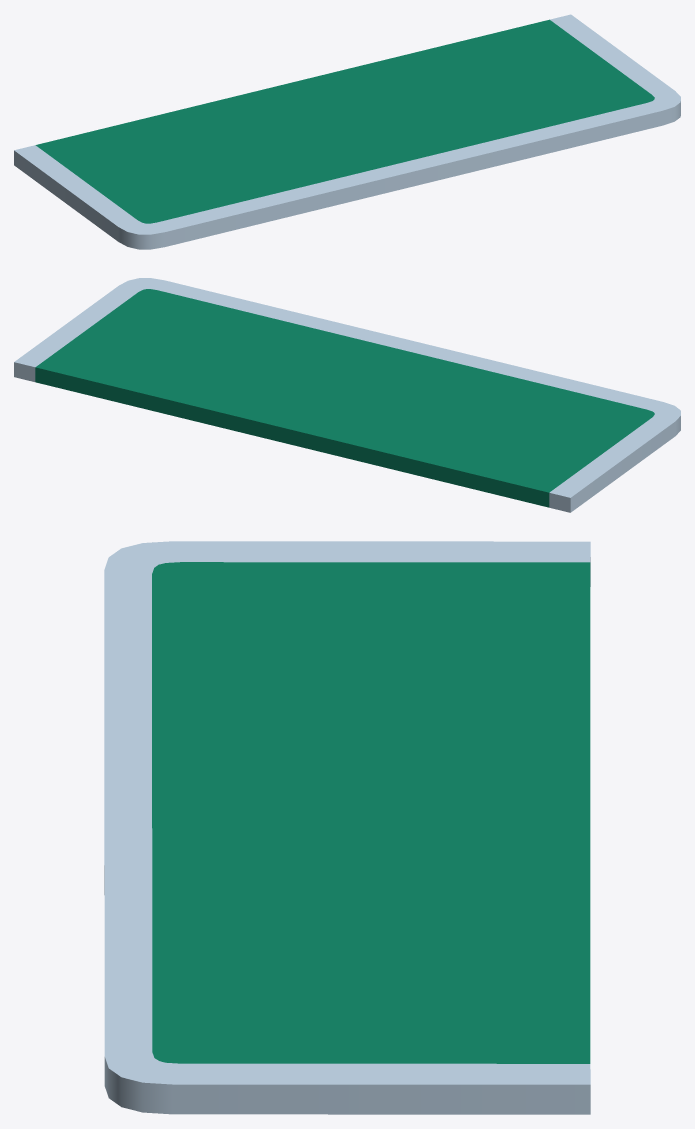
File: grassfield01_s03.FBX
3 views of the same model, one above another, from view 1: azimuth 30°, elevation 25°; view 2: azimuth 150°, elevation 25°; view 3: azimuth 270°, elevation 25° (orthographic). The views are drawn at different scales.
Parts seen in each view (by area): view 1: grassfield01_s03; view 2: grassfield01_s03; view 3: grassfield01_s03.
Part boxes in pixels (left/top/right/bottom): grassfield01_s03: left=14, top=14, right=680, bottom=249; grassfield01_s03: left=14, top=278, right=680, bottom=512; grassfield01_s03: left=104, top=541, right=590, bottom=1114.
Bounding box in the file's own units: 948 × 359 × 24.44.
Materials: 1 (1 with a texture image).
